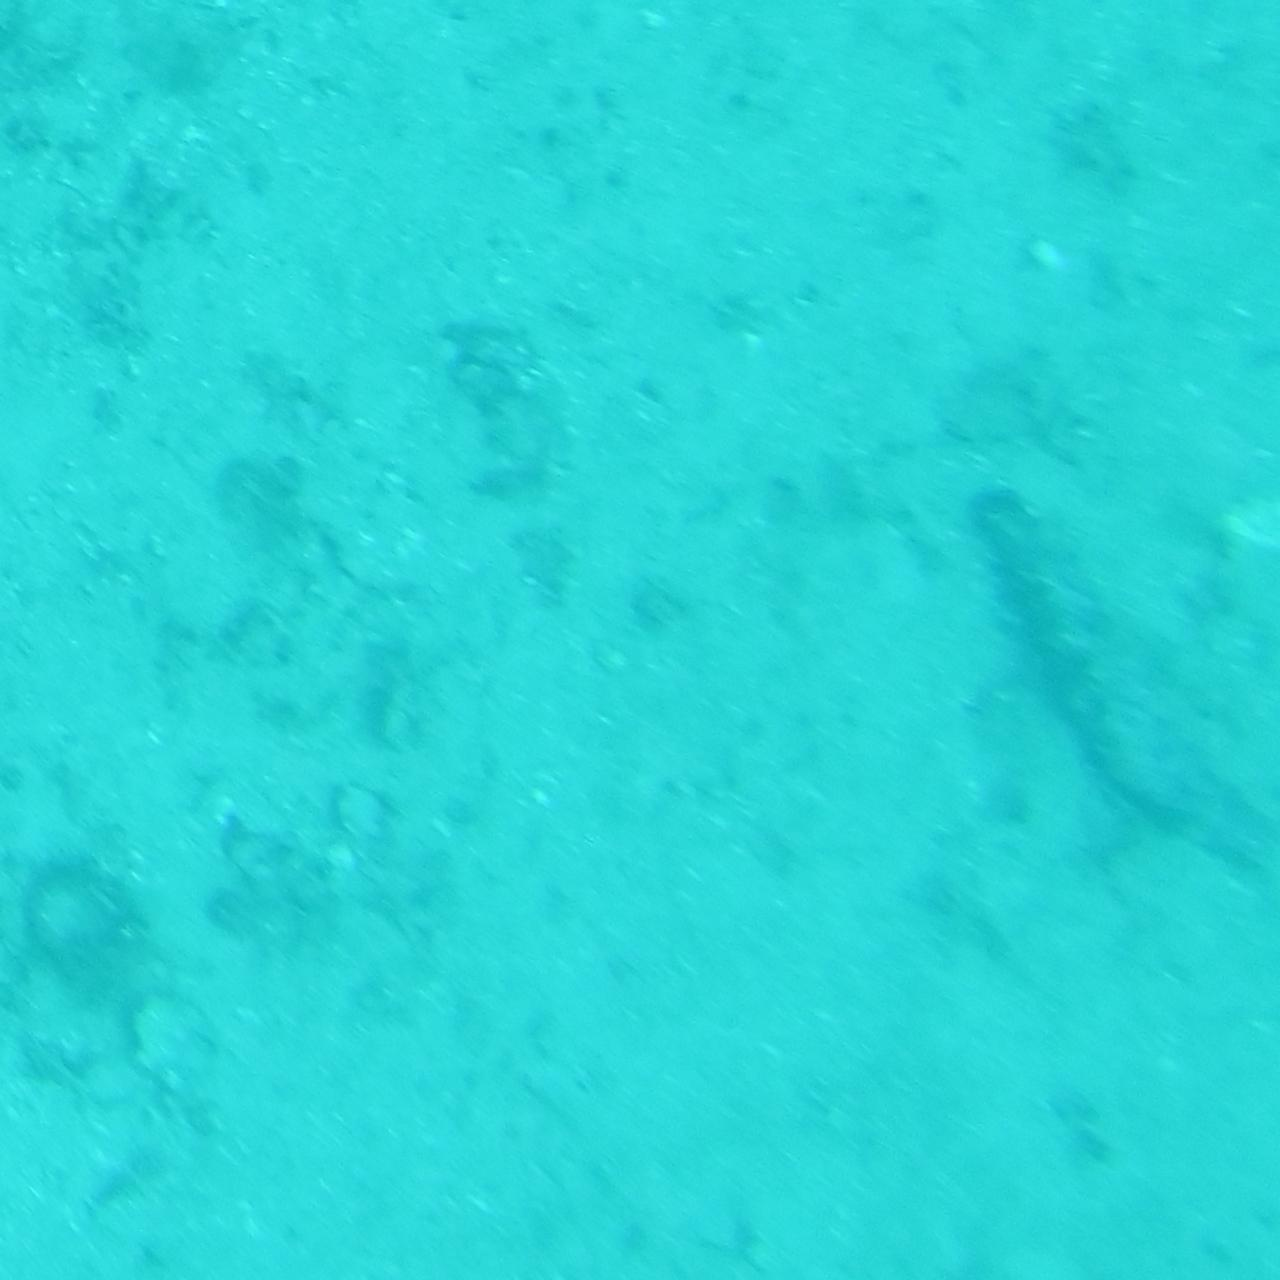Holothuria tubulosa: (980, 468, 1276, 878)
